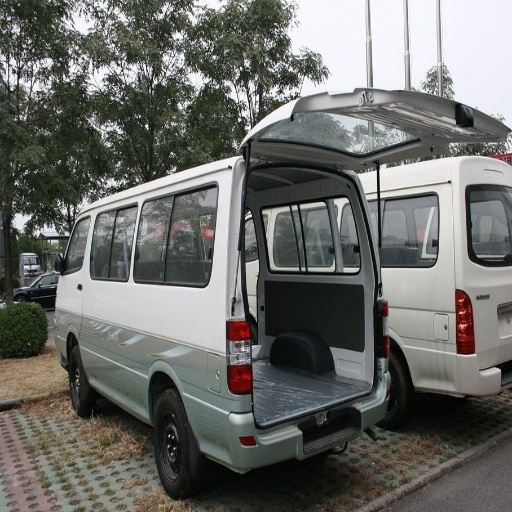back_bumper: (191, 361, 388, 473)
back_glass: (289, 107, 397, 150)
back_left_door: (168, 182, 218, 275), (121, 295, 160, 369)
back_left_light: (227, 320, 250, 392)
back_right_door: (133, 194, 175, 282)
trunk: (252, 172, 373, 414), (141, 335, 236, 413)
